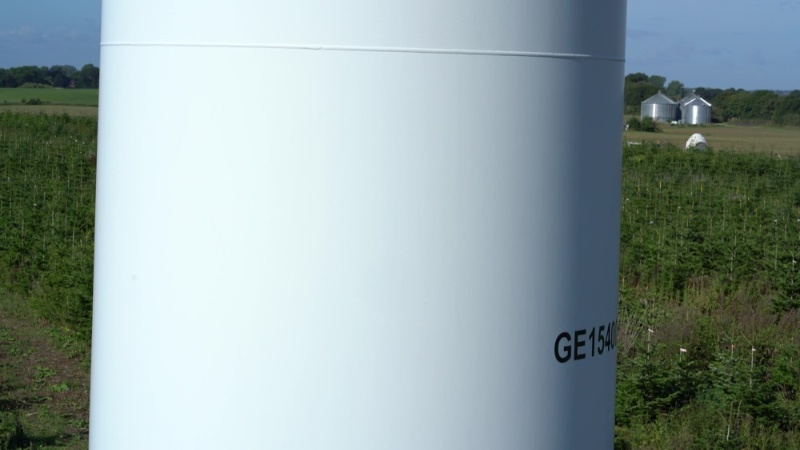weldseam: (98, 35, 626, 74)
